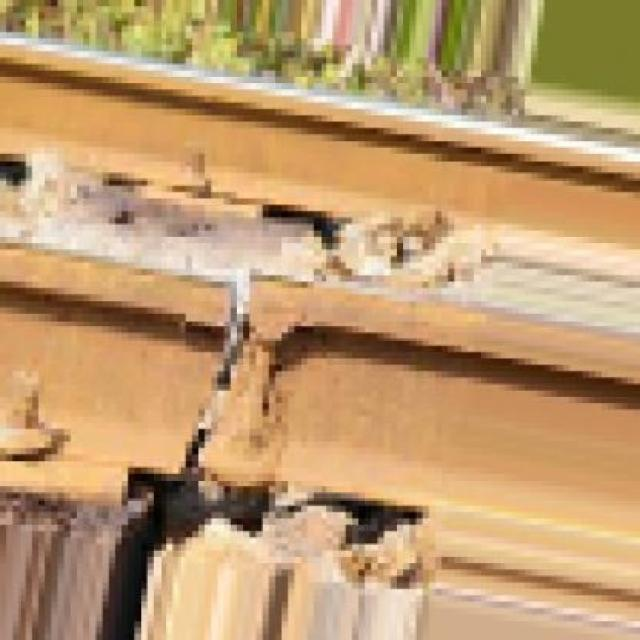defective: (0, 194, 638, 596)
